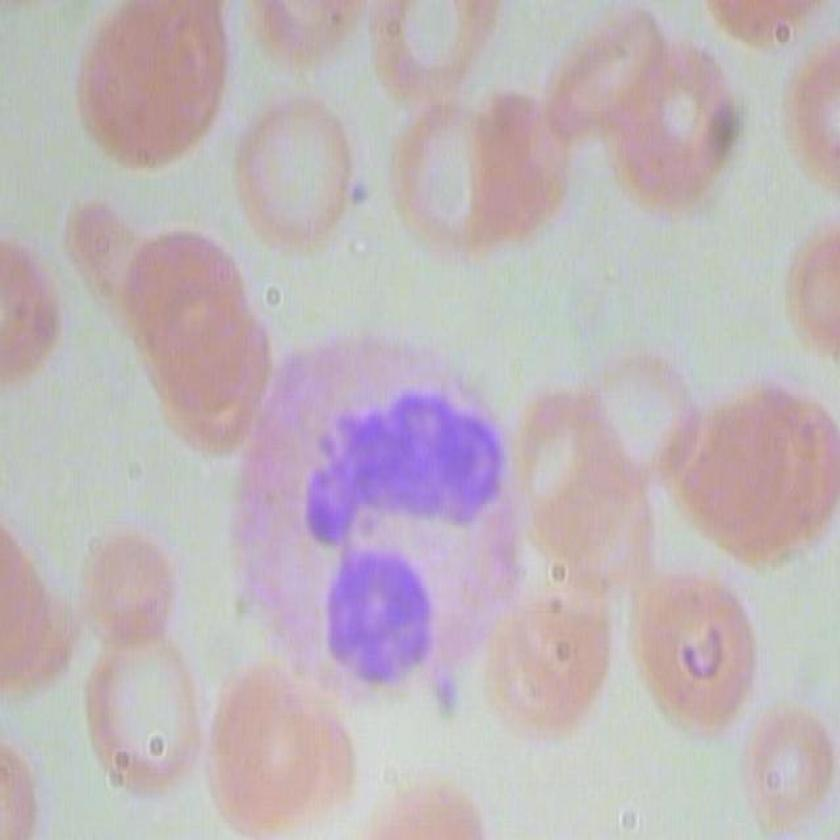neutrophil: (229, 326, 522, 730)
